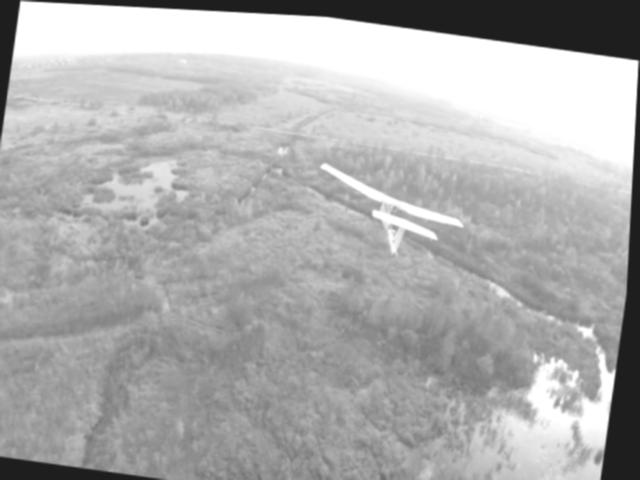hedef: (305, 156, 466, 263)
